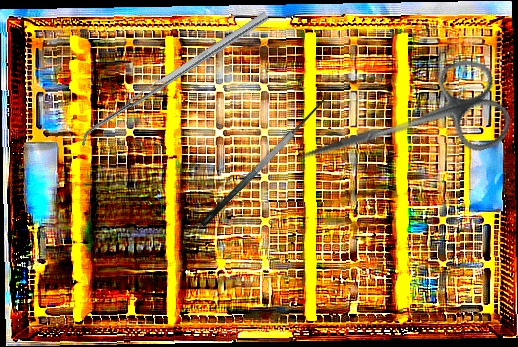Iris Scissors: (285, 52, 517, 205)
Spatula Surgical: (75, 11, 275, 150), (188, 87, 334, 228)
